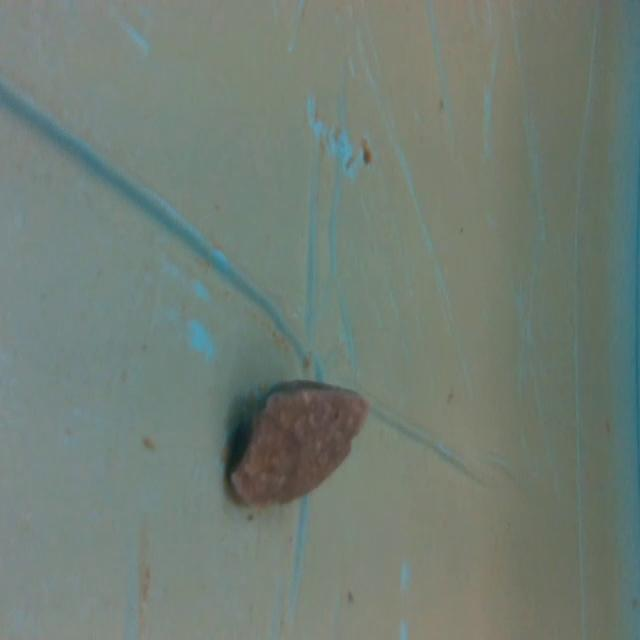rock: (224, 370, 376, 522)
